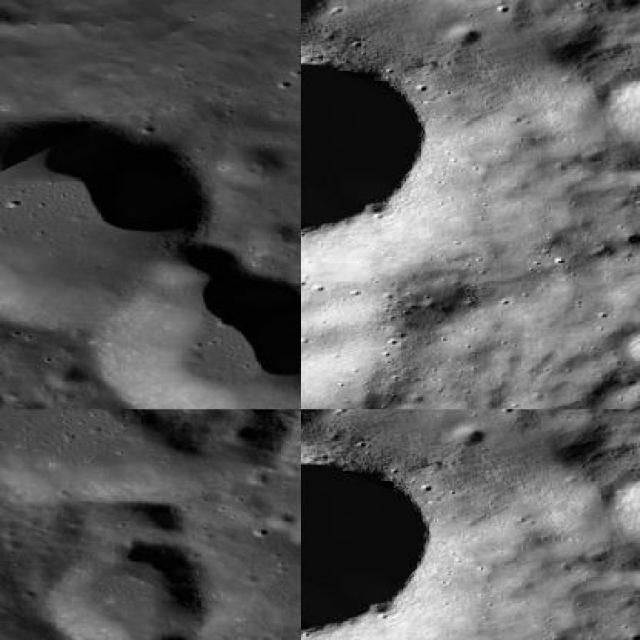crater: (0, 120, 211, 331), (0, 409, 298, 509), (95, 262, 298, 408), (300, 437, 431, 638), (300, 37, 426, 245), (43, 537, 211, 638)
